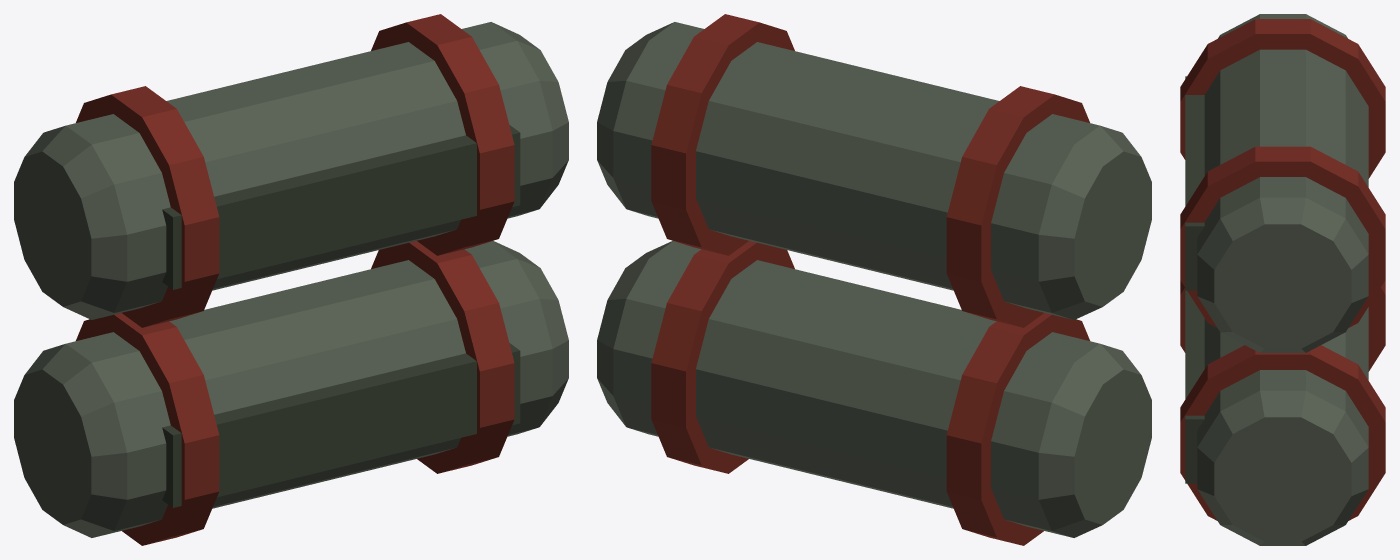
Rendered from s600_starter.obj.
3 renders of one model, left to right at view 1: azimuth 30°, elevation 25°; view 2: azimuth 150°, elevation 25°; view 3: azimuth 270°, elevation 25°, orthographic. The views are drawn at different scales.
Parts seen in each view (by area): view 1: s600_starter; view 2: s600_starter; view 3: s600_starter.
Part boxes in pixels (x1,y1,x2,y2): s600_starter: (14, 14, 568, 545); s600_starter: (597, 14, 1151, 545); s600_starter: (1180, 14, 1385, 545).
Bounding box in the file's own units: 1.5 × 1.29 × 0.634.
